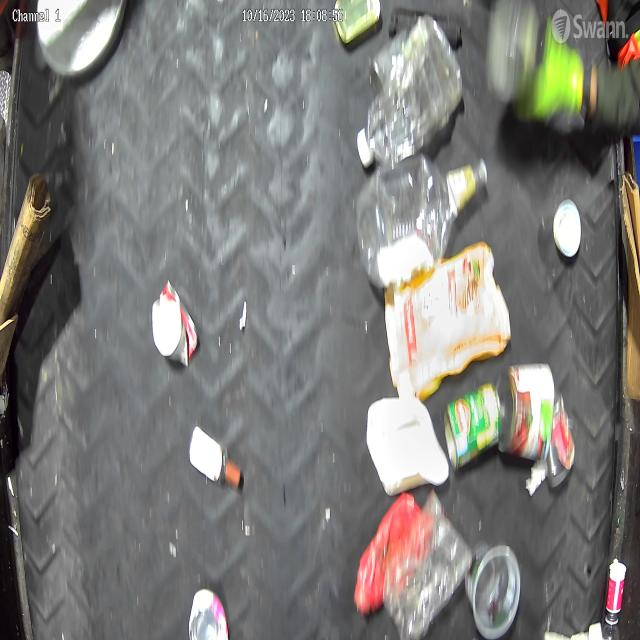can: (498, 362, 551, 461), (444, 382, 504, 464), (544, 394, 574, 494)
plastic_bottle: (357, 11, 462, 167), (355, 164, 487, 286)
